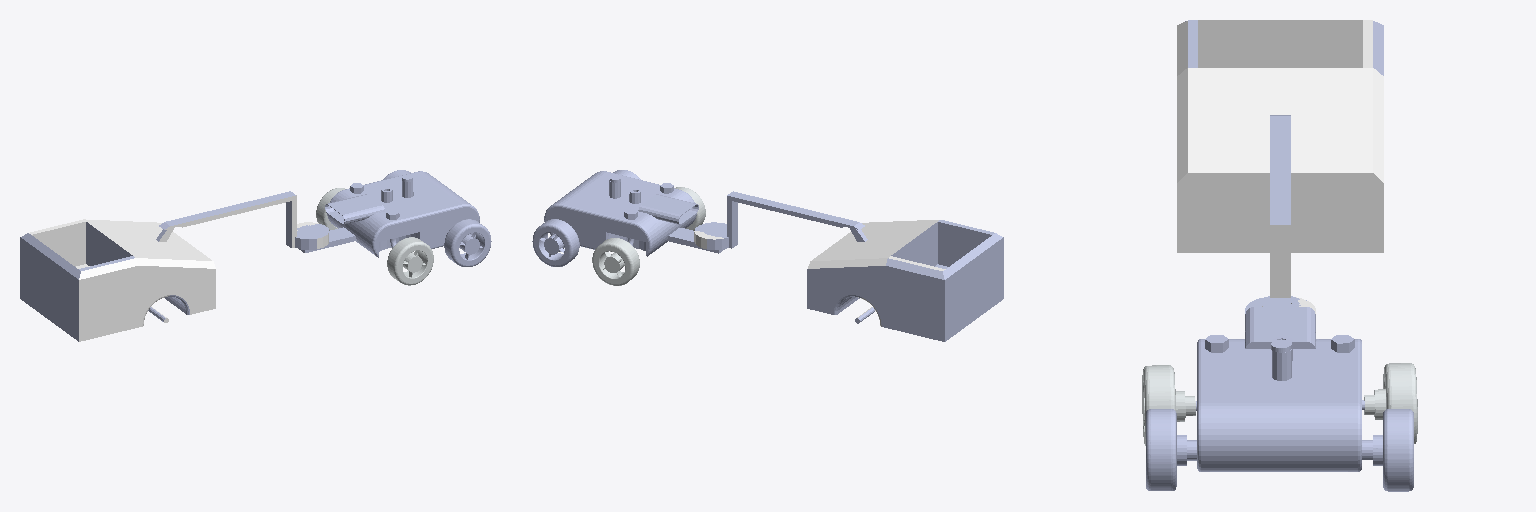
URDF robot description (cars assemble):
<?xml version="1.0" encoding="utf-8"?>
<!-- This URDF was automatically created by SolidWorks to URDF Exporter! Originally created by [author] ([email redacted]) 
     Commit Version: 1.6.0-4-g7f85cfe  Build Version: 1.6.7995.38578
     For more information, please see http://wiki.ros.org/sw_urdf_exporter -->
<robot
  name="cars assemble">
  <link
    name="base_link">
    <inertial>
      <origin
        xyz="-1.2906 0.042967 0.039104"
        rpy="0 0 0" />
      <mass
        value="76.79" />
      <inertia
        ixx="2.2455"
        ixy="0.00023712"
        ixz="-0.16444"
        iyy="4.7478"
        iyz="-0.00013027"
        izz="5.9615" />
    </inertial>
    <visual>
      <origin
        xyz="0 0 0"
        rpy="0 0 0" />
      <geometry>
        <mesh
          filename="package://cars assemble/meshes/base_link.STL" />
      </geometry>
      <material
        name="">
        <color
          rgba="0.79216 0.81961 0.93333 1" />
      </material>
    </visual>
    <collision>
      <origin
        xyz="0 0 0"
        rpy="0 0 0" />
      <geometry>
        <mesh
          filename="package://cars assemble/meshes/base_link.STL" />
      </geometry>
    </collision>
  </link>
  <link
    name="front_left_link">
    <inertial>
      <origin
        xyz="0.0101054563175425 0.0226182931833723 0.000188080520011333"
        rpy="0 0 0" />
      <mass
        value="0.163573437446173" />
      <inertia
        ixx="0.000740682334483605"
        ixy="0.00015346095886627"
        ixz="3.10589797959443E-07"
        iyy="9.46378565266336E-05"
        iyz="-2.20832444207929E-06"
        izz="0.000806338608995048" />
    </inertial>
    <visual>
      <origin
        xyz="0 0 0"
        rpy="0 0 0" />
      <geometry>
        <mesh
          filename="package://cars assemble/meshes/front_left_link.STL" />
      </geometry>
      <material
        name="">
        <color
          rgba="0.792156862745098 0.819607843137255 0.933333333333333 1" />
      </material>
    </visual>
    <collision>
      <origin
        xyz="0 0 0"
        rpy="0 0 0" />
      <geometry>
        <mesh
          filename="package://cars assemble/meshes/front_left_link.STL" />
      </geometry>
    </collision>
  </link>
  <joint
    name="front_left_joint"
    type="continuous">
    <origin
      xyz="-0.10171 -0.11351 -0.0005163"
      rpy="1.5759 -0.00020786 -1.5298" />
    <parent
      link="base_link" />
    <child
      link="front_left_link" />
    <axis
      xyz="0 1 0" />
  </joint>
  <link
    name="front_left_wheel_Link">
    <inertial>
      <origin
        xyz="-3.04773388742352E-05 9.72089512785157E-06 -0.0949363699740946"
        rpy="0 0 0" />
      <mass
        value="1.97318465886728" />
      <inertia
        ixx="0.00661256233434863"
        ixy="4.78195522683735E-10"
        ixz="-1.45294480759574E-07"
        iyy="0.0066125635922767"
        iyz="4.63572318908979E-08"
        izz="0.0107550717782981" />
    </inertial>
    <visual>
      <origin
        xyz="0 0 0"
        rpy="0 0 0" />
      <geometry>
        <mesh
          filename="package://cars assemble/meshes/front_left_wheel_Link.STL" />
      </geometry>
      <material
        name="">
        <color
          rgba="0.898039215686275 0.92156862745098 0.929411764705882 1" />
      </material>
    </visual>
    <collision>
      <origin
        xyz="0 0 0"
        rpy="0 0 0" />
      <geometry>
        <mesh
          filename="package://cars assemble/meshes/front_left_wheel_Link.STL" />
      </geometry>
    </collision>
  </link>
  <joint
    name="front_left_wheel_joint"
    type="continuous">
    <origin
      xyz="0.04295 -0.073241 0"
      rpy="-1.5708 0.29618 1.5708" />
    <parent
      link="front_left_link" />
    <child
      link="front_left_wheel_Link" />
    <axis
      xyz="0 0 1" />
  </joint>
  <link
    name="front_right_link">
    <inertial>
      <origin
        xyz="0.0101054563175426 0.0226182931833722 0.000188080520011374"
        rpy="0 0 0" />
      <mass
        value="0.163573437446173" />
      <inertia
        ixx="0.000740682334483605"
        ixy="0.00015346095886627"
        ixz="3.10589797959131E-07"
        iyy="9.46378565266337E-05"
        iyz="-2.20832444207814E-06"
        izz="0.000806338608995047" />
    </inertial>
    <visual>
      <origin
        xyz="0 0 0"
        rpy="0 0 0" />
      <geometry>
        <mesh
          filename="package://cars assemble/meshes/front_right_link.STL" />
      </geometry>
      <material
        name="">
        <color
          rgba="0.792156862745098 0.819607843137255 0.933333333333333 1" />
      </material>
    </visual>
    <collision>
      <origin
        xyz="0 0 0"
        rpy="0 0 0" />
      <geometry>
        <mesh
          filename="package://cars assemble/meshes/front_right_link.STL" />
      </geometry>
    </collision>
  </link>
  <joint
    name="front_right_joint"
    type="continuous">
    <origin
      xyz="-0.10171 0.19637 -0.0005163"
      rpy="1.5657 0.00026013 1.6221" />
    <parent
      link="base_link" />
    <child
      link="front_right_link" />
    <axis
      xyz="0 1 0" />
  </joint>
  <link
    name="front_right_wheel_link">
    <inertial>
      <origin
        xyz="-3.0477342272385E-05 9.7208884349137E-06 -0.0990638772882194"
        rpy="0 0 0" />
      <mass
        value="1.97318465870598" />
      <inertia
        ixx="0.00661256233411517"
        ixy="4.78001958513034E-10"
        ixz="-1.4529547132672E-07"
        iyy="0.00661256359218702"
        iyz="4.63569008046652E-08"
        izz="0.0107550717781734" />
    </inertial>
    <visual>
      <origin
        xyz="0 0 0"
        rpy="0 0 0" />
      <geometry>
        <mesh
          filename="package://cars assemble/meshes/front_right_wheel_link.STL" />
      </geometry>
      <material
        name="">
        <color
          rgba="0.898039215686275 0.92156862745098 0.929411764705882 1" />
      </material>
    </visual>
    <collision>
      <origin
        xyz="0 0 0"
        rpy="0 0 0" />
      <geometry>
        <mesh
          filename="package://cars assemble/meshes/front_right_wheel_link.STL" />
      </geometry>
    </collision>
  </link>
  <joint
    name="front_right_wheel_joint"
    type="continuous">
    <origin
      xyz="0.038822 -0.073241 0"
      rpy="-1.5708 0.95826 1.5708" />
    <parent
      link="front_right_link" />
    <child
      link="front_right_wheel_link" />
    <axis
      xyz="0 0 1" />
  </joint>
  <link
    name="lidar_link">
    <inertial>
      <origin
        xyz="9.44587351341744E-05 -0.025399018294254 -2.36146837834933E-05"
        rpy="0 0 0" />
      <mass
        value="0.0386111099072293" />
      <inertia
        ixx="8.82242414813367E-06"
        ixy="2.31594444351596E-08"
        ixz="4.30632249560021E-11"
        iyy="9.34156189411158E-06"
        iyz="-5.78986110878115E-09"
        izz="8.82258563522726E-06" />
    </inertial>
    <visual>
      <origin
        xyz="0 0 0"
        rpy="0 0 0" />
      <geometry>
        <mesh
          filename="package://cars assemble/meshes/lidar_link.STL" />
      </geometry>
      <material
        name="">
        <color
          rgba="0.792156862745098 0.819607843137255 0.933333333333333 1" />
      </material>
    </visual>
    <collision>
      <origin
        xyz="0 0 0"
        rpy="0 0 0" />
      <geometry>
        <mesh
          filename="package://cars assemble/meshes/lidar_link.STL" />
      </geometry>
    </collision>
  </link>
  <joint
    name="lidar_joint"
    type="continuous">
    <origin
      xyz="0.063442 0.045234 0.13282"
      rpy="-1.5718 0.0049842 2.951" />
    <parent
      link="base_link" />
    <child
      link="lidar_link" />
    <axis
      xyz="0 1 0" />
  </joint>
  <link
    name="back_shaft_link">
    <inertial>
      <origin
        xyz="0.00122523970046776 0.00211209276969357 0.0414268213944895"
        rpy="0 0 0" />
      <mass
        value="4.17803597748373" />
      <inertia
        ixx="0.0172699429850423"
        ixy="4.70060969315722E-12"
        ixz="-6.17091651816874E-08"
        iyy="0.0172699429709338"
        iyz="2.03588191503181E-07"
        izz="0.0215288263127668" />
    </inertial>
    <visual>
      <origin
        xyz="0 0 0"
        rpy="0 0 0" />
      <geometry>
        <mesh
          filename="package://cars assemble/meshes/back_shaft_link.STL" />
      </geometry>
      <material
        name="">
        <color
          rgba="0.792156862745098 0.819607843137255 0.933333333333333 1" />
      </material>
    </visual>
    <collision>
      <origin
        xyz="0 0 0"
        rpy="0 0 0" />
      <geometry>
        <mesh
          filename="package://cars assemble/meshes/back_shaft_link.STL" />
      </geometry>
    </collision>
  </link>
  <joint
    name="back_shaft_joint"
    type="continuous">
    <origin
      xyz="0.19441 0 -0.059473"
      rpy="1.5708 -0.5266 3.1416" />
    <parent
      link="base_link" />
    <child
      link="back_shaft_link" />
    <axis
      xyz="0 0 1" />
  </joint>
  <link
    name="track_Link">
    <inertial>
      <origin
        xyz="0 0 0"
        rpy="0 0 0" />
      <mass
        value="0" />
      <inertia
        ixx="0"
        ixy="0"
        ixz="0"
        iyy="0"
        iyz="0"
        izz="0" />
    </inertial>
    <visual>
      <origin
        xyz="0 0 0"
        rpy="0 0 0" />
      <geometry>
        <mesh
          filename="package://cars assemble/meshes/track_Link.STL" />
      </geometry>
      <material
        name="">
        <color
          rgba="1 1 1 1" />
      </material>
    </visual>
    <collision>
      <origin
        xyz="0 0 0"
        rpy="0 0 0" />
      <geometry>
        <mesh
          filename="package://cars assemble/meshes/track_Link.STL" />
      </geometry>
    </collision>
  </link>
  <joint
    name="track_joint"
    type="fixed">
    <origin
      xyz="-1.5243 0.042991 -0.096811"
      rpy="1.5708 0 0" />
    <parent
      link="base_link" />
    <child
      link="track_Link" />
    <axis
      xyz="0 0 0" />
  </joint>
</robot>

--- Render facts (derived) ---
Views: 3 orthographic renders of the robot side by side, from view 1: azimuth 30°, elevation 25°; view 2: azimuth 150°, elevation 25°; view 3: azimuth 270°, elevation 25°.
Model cars assemble with 8 links and 7 joints (6 continuous, 1 fixed), rooted at base_link, posed every joint at zero.
Visible links, largest first — view 1: base_link, track_Link, back_shaft_link, front_left_wheel_Link; view 2: base_link, track_Link, back_shaft_link, front_right_wheel_link; view 3: track_Link, base_link, back_shaft_link, front_right_wheel_link, front_left_wheel_Link.
Link boxes in pixels (box(x1,y1,x2,y2)): base_link: box(20, 171, 479, 341); track_Link: box(29, 195, 328, 341); back_shaft_link: box(383, 170, 491, 266); front_left_wheel_Link: box(387, 237, 433, 285); base_link: box(544, 171, 1003, 341); track_Link: box(694, 220, 945, 326); back_shaft_link: box(532, 170, 640, 266); front_right_wheel_link: box(592, 238, 639, 285); track_Link: box(1177, 20, 1383, 313); base_link: box(1185, 20, 1383, 471); back_shaft_link: box(1146, 409, 1413, 491); front_right_wheel_link: box(1364, 363, 1417, 443); front_left_wheel_Link: box(1142, 365, 1195, 445).
Size in the robot's own frame: 2.04 by 0.6784 by 0.4029 metres.
8 mesh visuals loaded from 8 distinct referenced files (8 binary STL).